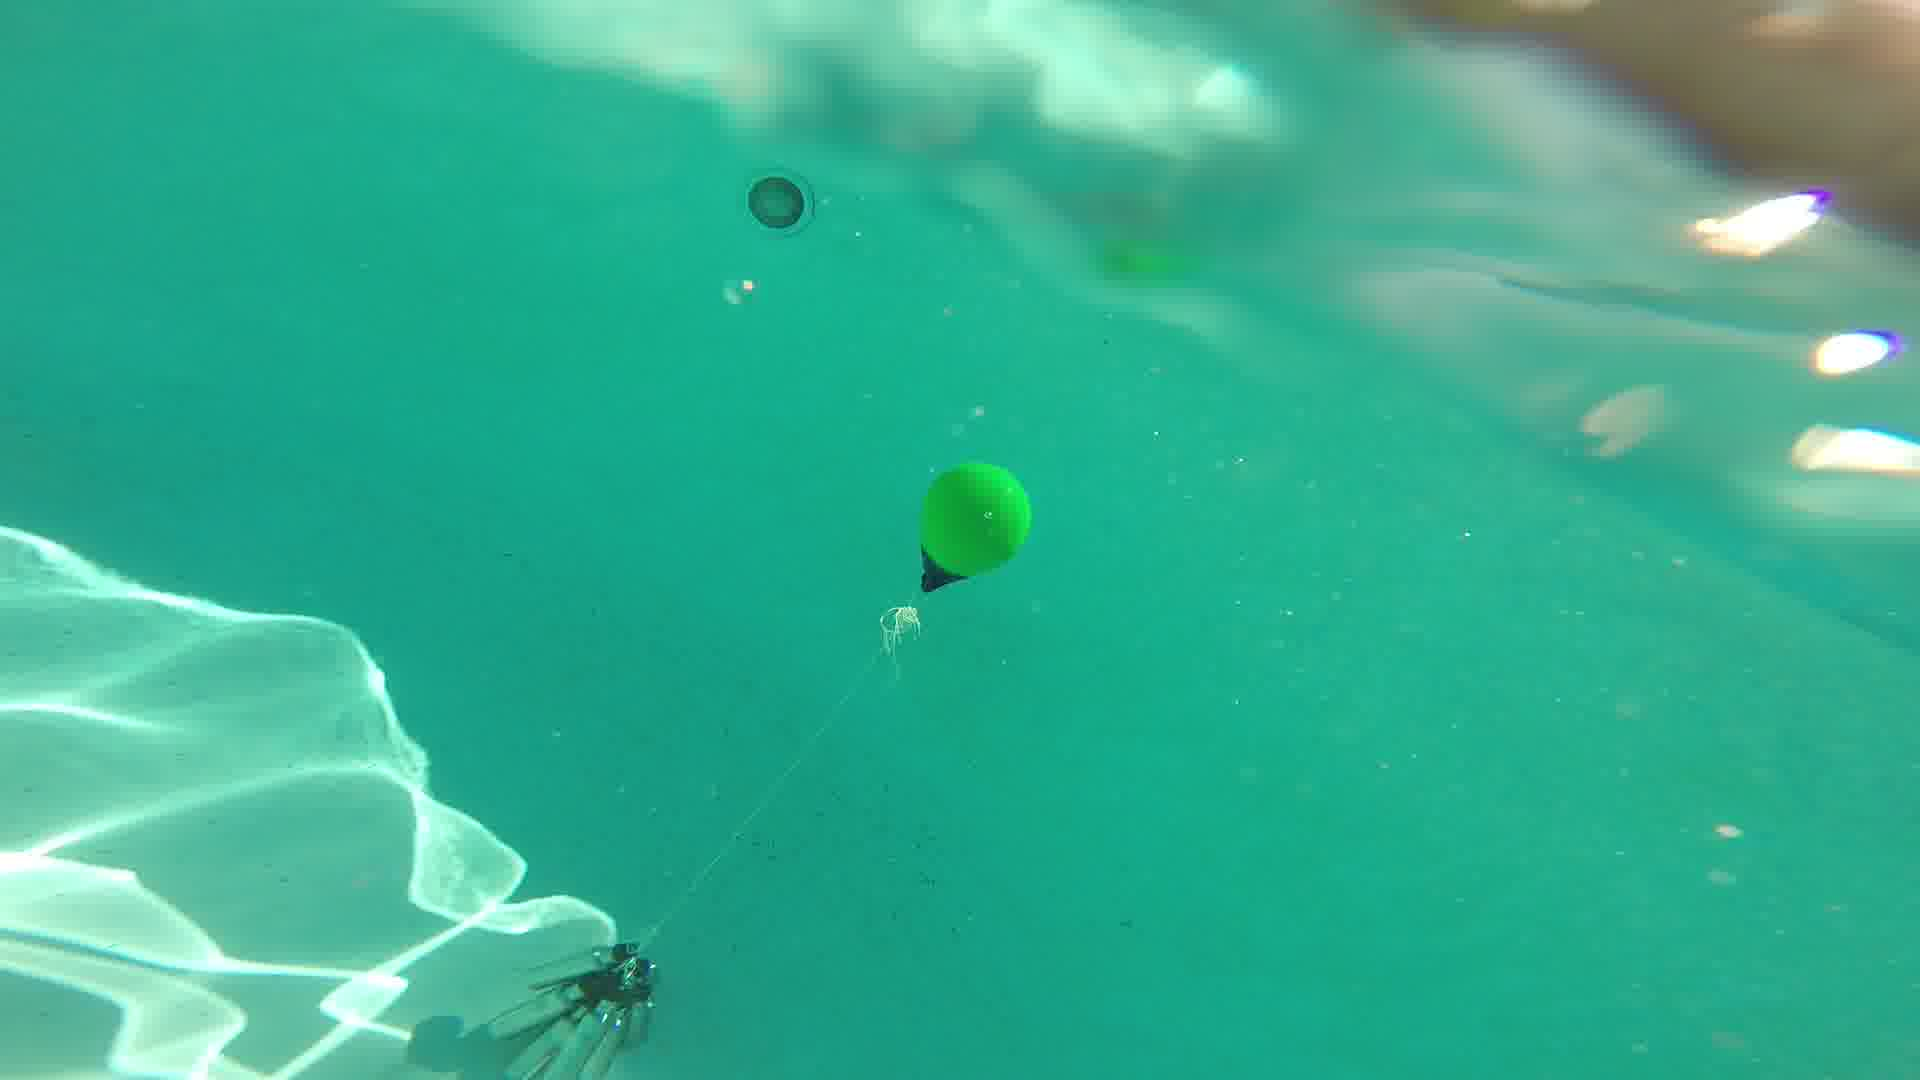yellow_buoy: (915, 462, 1035, 596)
